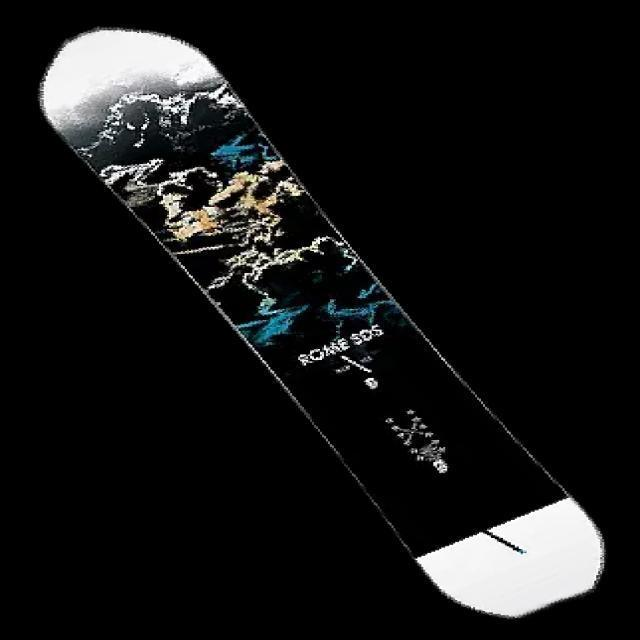Snowboard: (37, 25, 606, 619)
